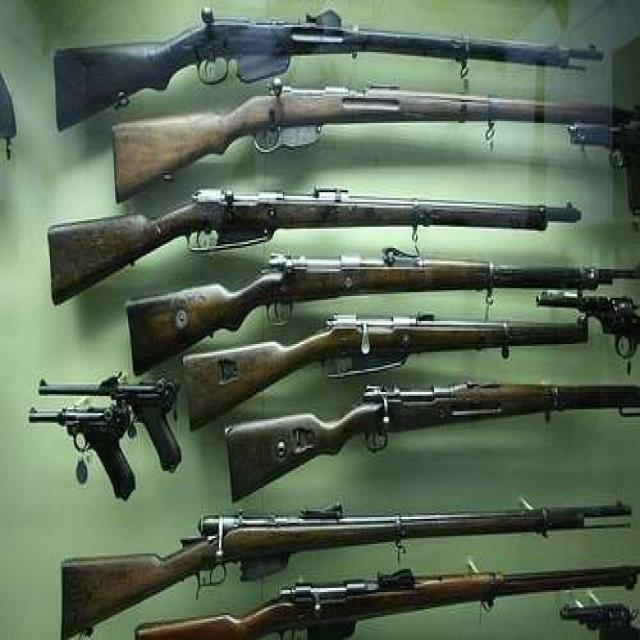weapon: (34, 494, 596, 619), (29, 0, 610, 117), (105, 246, 635, 373), (8, 196, 596, 304), (185, 306, 610, 452), (218, 374, 638, 514), (83, 94, 627, 202)
